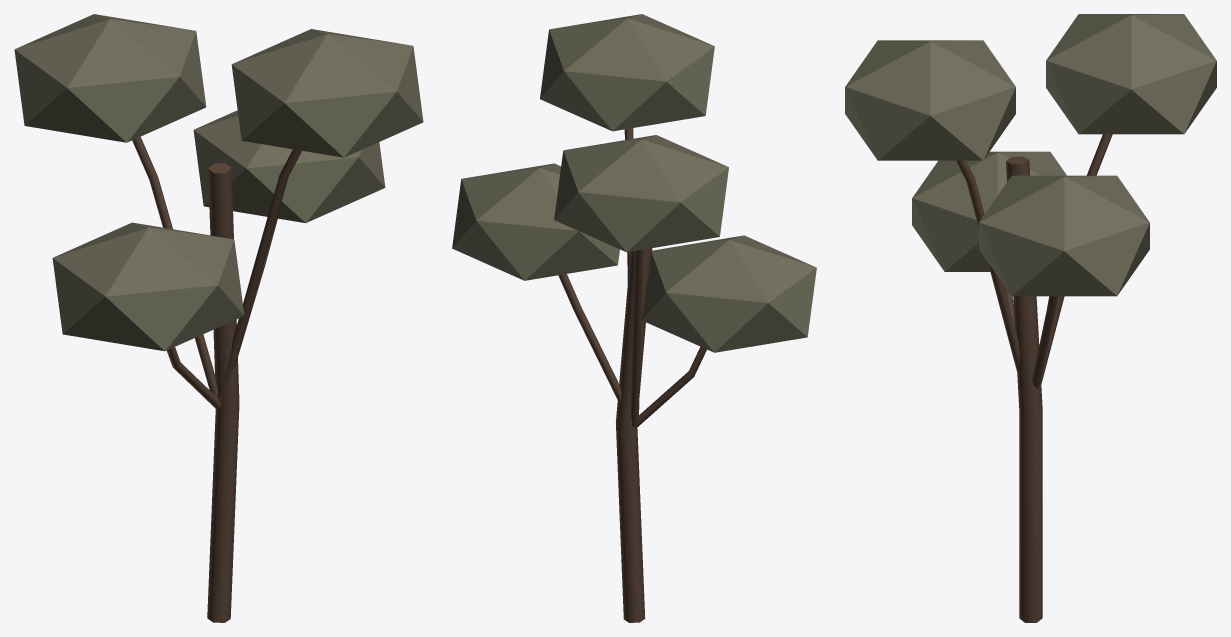
The model's file is env_tree_sparse.gltf.
3 renders of one model, left to right at view 1: azimuth 30°, elevation 25°; view 2: azimuth 150°, elevation 25°; view 3: azimuth 270°, elevation 25°, orthographic. The views are drawn at different scales.
Parts seen in each view (by area): view 1: env_tree_sparse__fabric, env_tree_sparse__wood_edge; view 2: env_tree_sparse__fabric, env_tree_sparse__wood_edge; view 3: env_tree_sparse__fabric, env_tree_sparse__wood_edge.
Boxes of the visible parts, <box> form: env_tree_sparse__fabric: <box>14,14,423,351</box>; env_tree_sparse__wood_edge: <box>132,137,301,622</box>; env_tree_sparse__fabric: <box>452,14,816,352</box>; env_tree_sparse__wood_edge: <box>558,128,706,622</box>; env_tree_sparse__fabric: <box>845,14,1216,296</box>; env_tree_sparse__wood_edge: <box>956,134,1112,622</box>.
Size of the model in its own units: 11.9 by 19.96 by 11.1.
